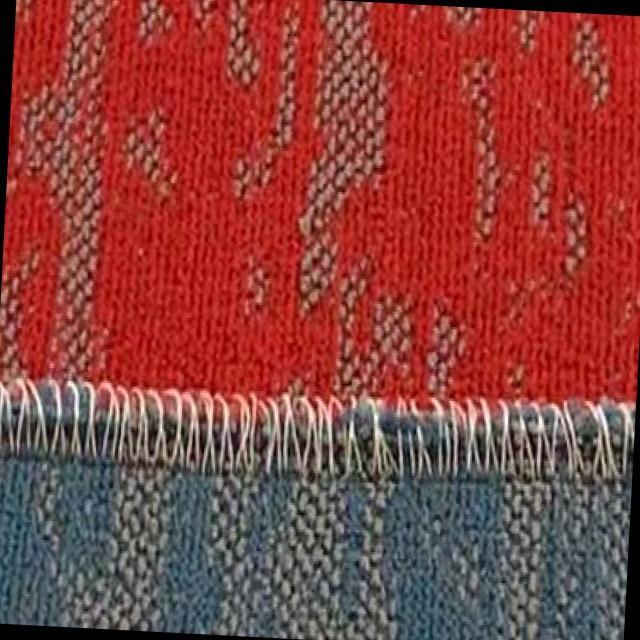gray stitch: (0, 363, 631, 504)
